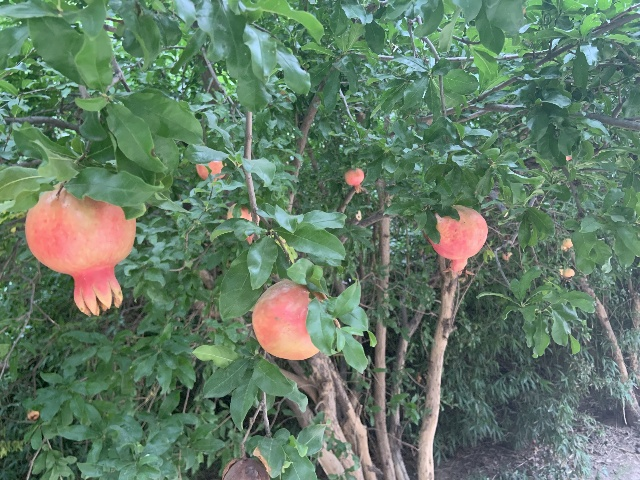ripe: (25, 182, 136, 316), (251, 279, 326, 360), (424, 205, 487, 278), (227, 203, 259, 245), (195, 160, 226, 181), (344, 168, 364, 193)
